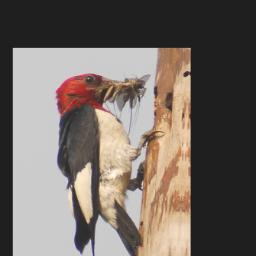Woodpecker: (45, 71, 167, 256)
